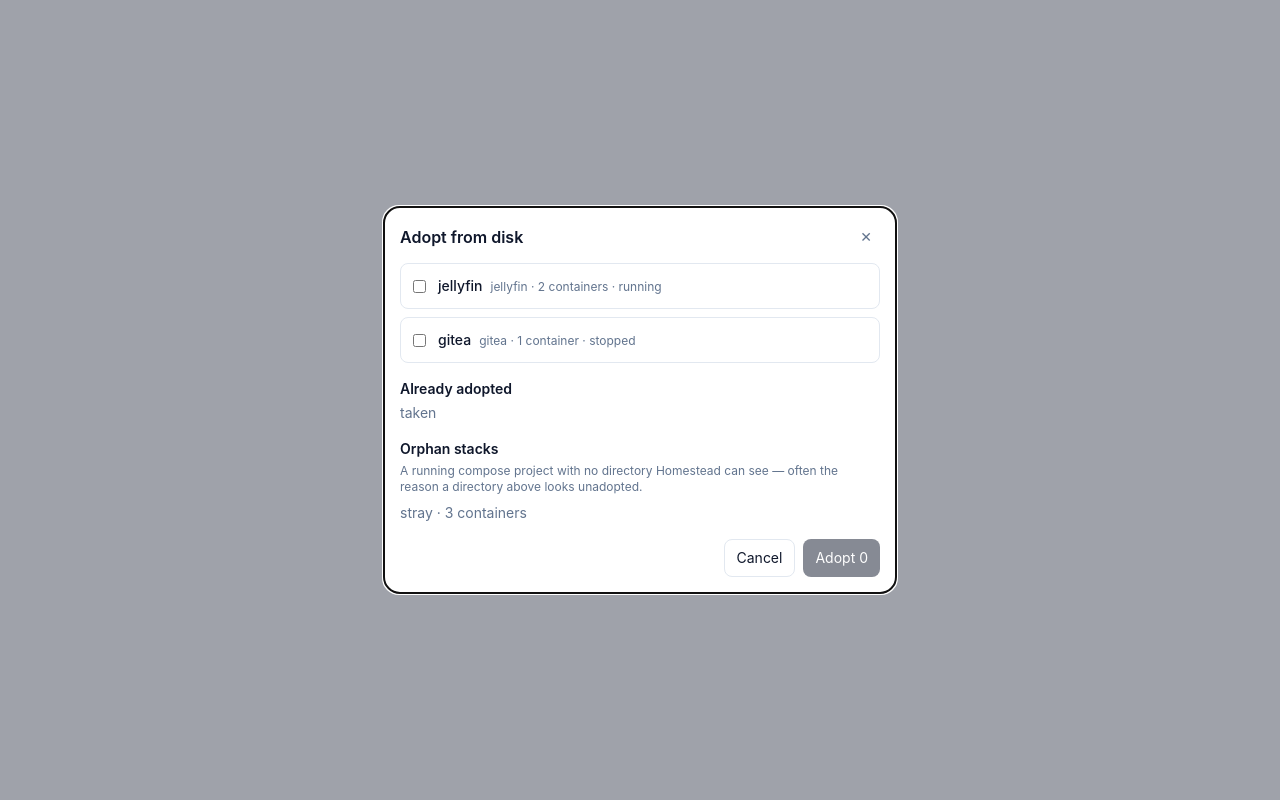
Test: AdoptDialog › reports per-directory failures instead of claiming success
This screenshot has width=1280, height=800.
Click the checkbox labelled "jellyfin". click: (420, 286)
box: top-left (413, 280), bottom-right (426, 292)
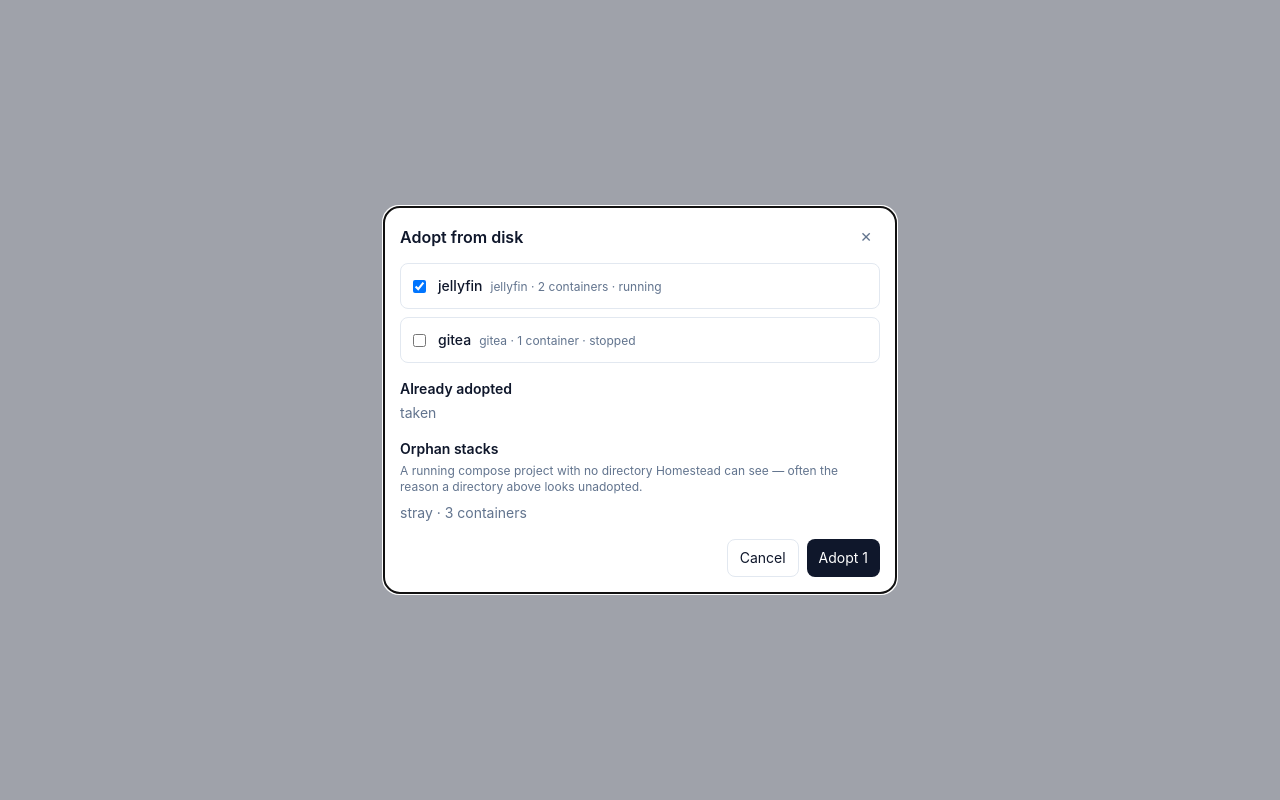
Click the checkbox labelled "gitea". click: (420, 340)
box: top-left (413, 334), bottom-right (426, 346)
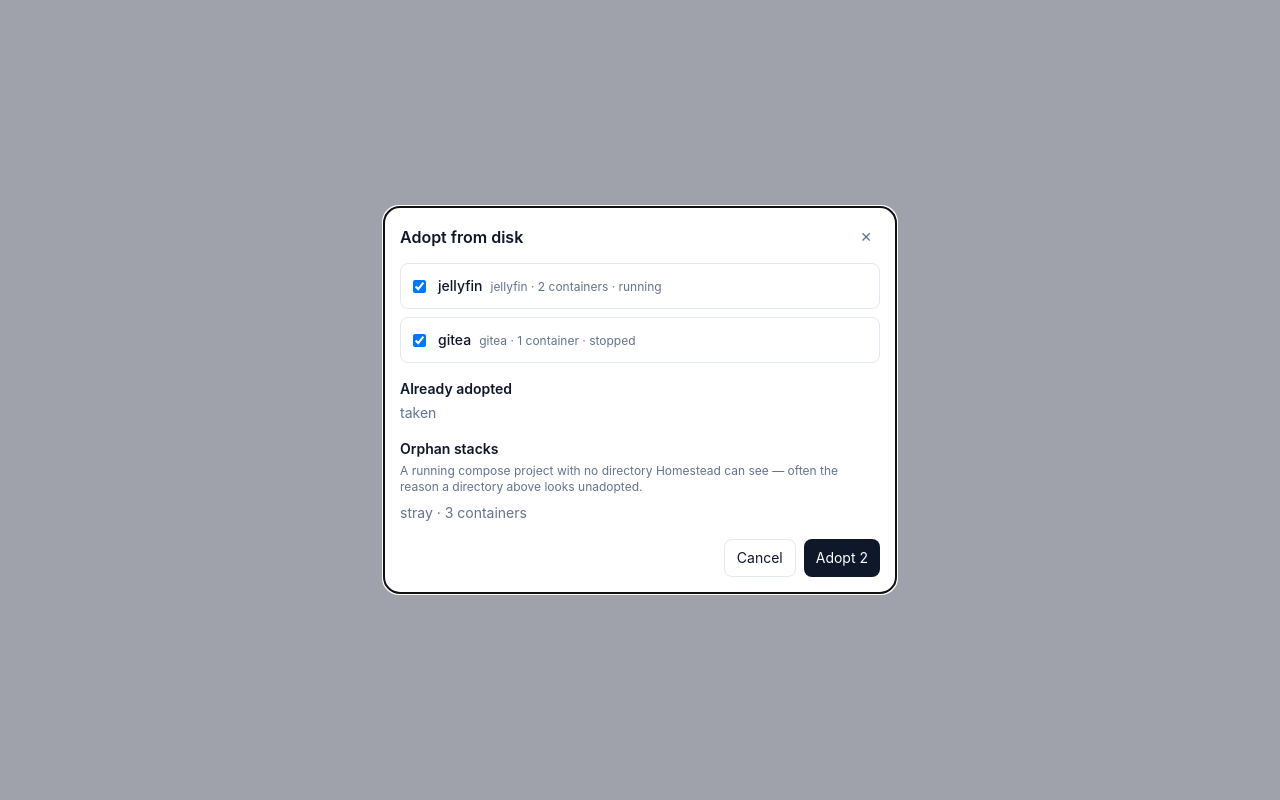
Click the button "Adopt 2". click: (842, 558)
box: top-left (804, 539), bottom-right (880, 577)
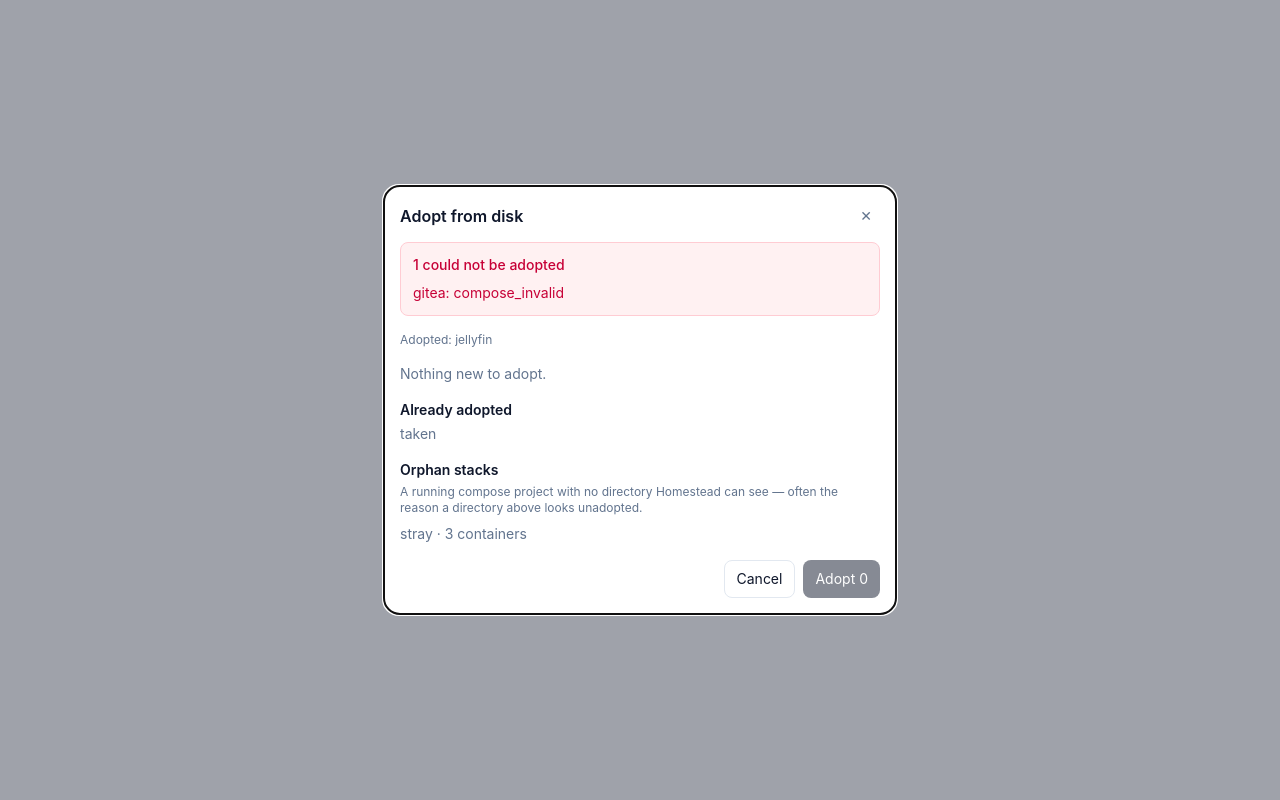
Check: the list item "gitea: compose_invalid" is shown, box top-left (413, 284), bottom-right (564, 301)
